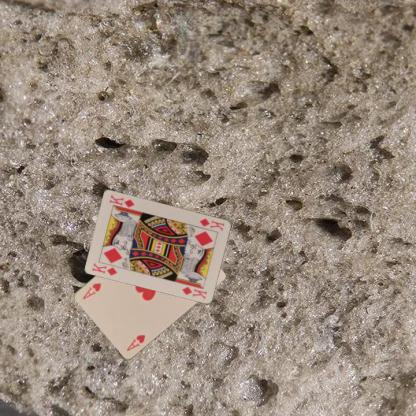Ah: (124, 332, 146, 352)
Kd: (90, 260, 118, 277), (198, 216, 226, 232)
